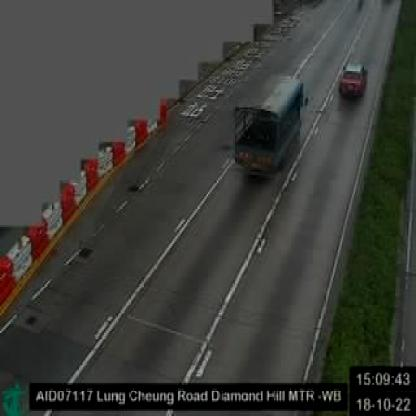Car: (340, 58, 370, 100)
Truck: (232, 76, 305, 176)
